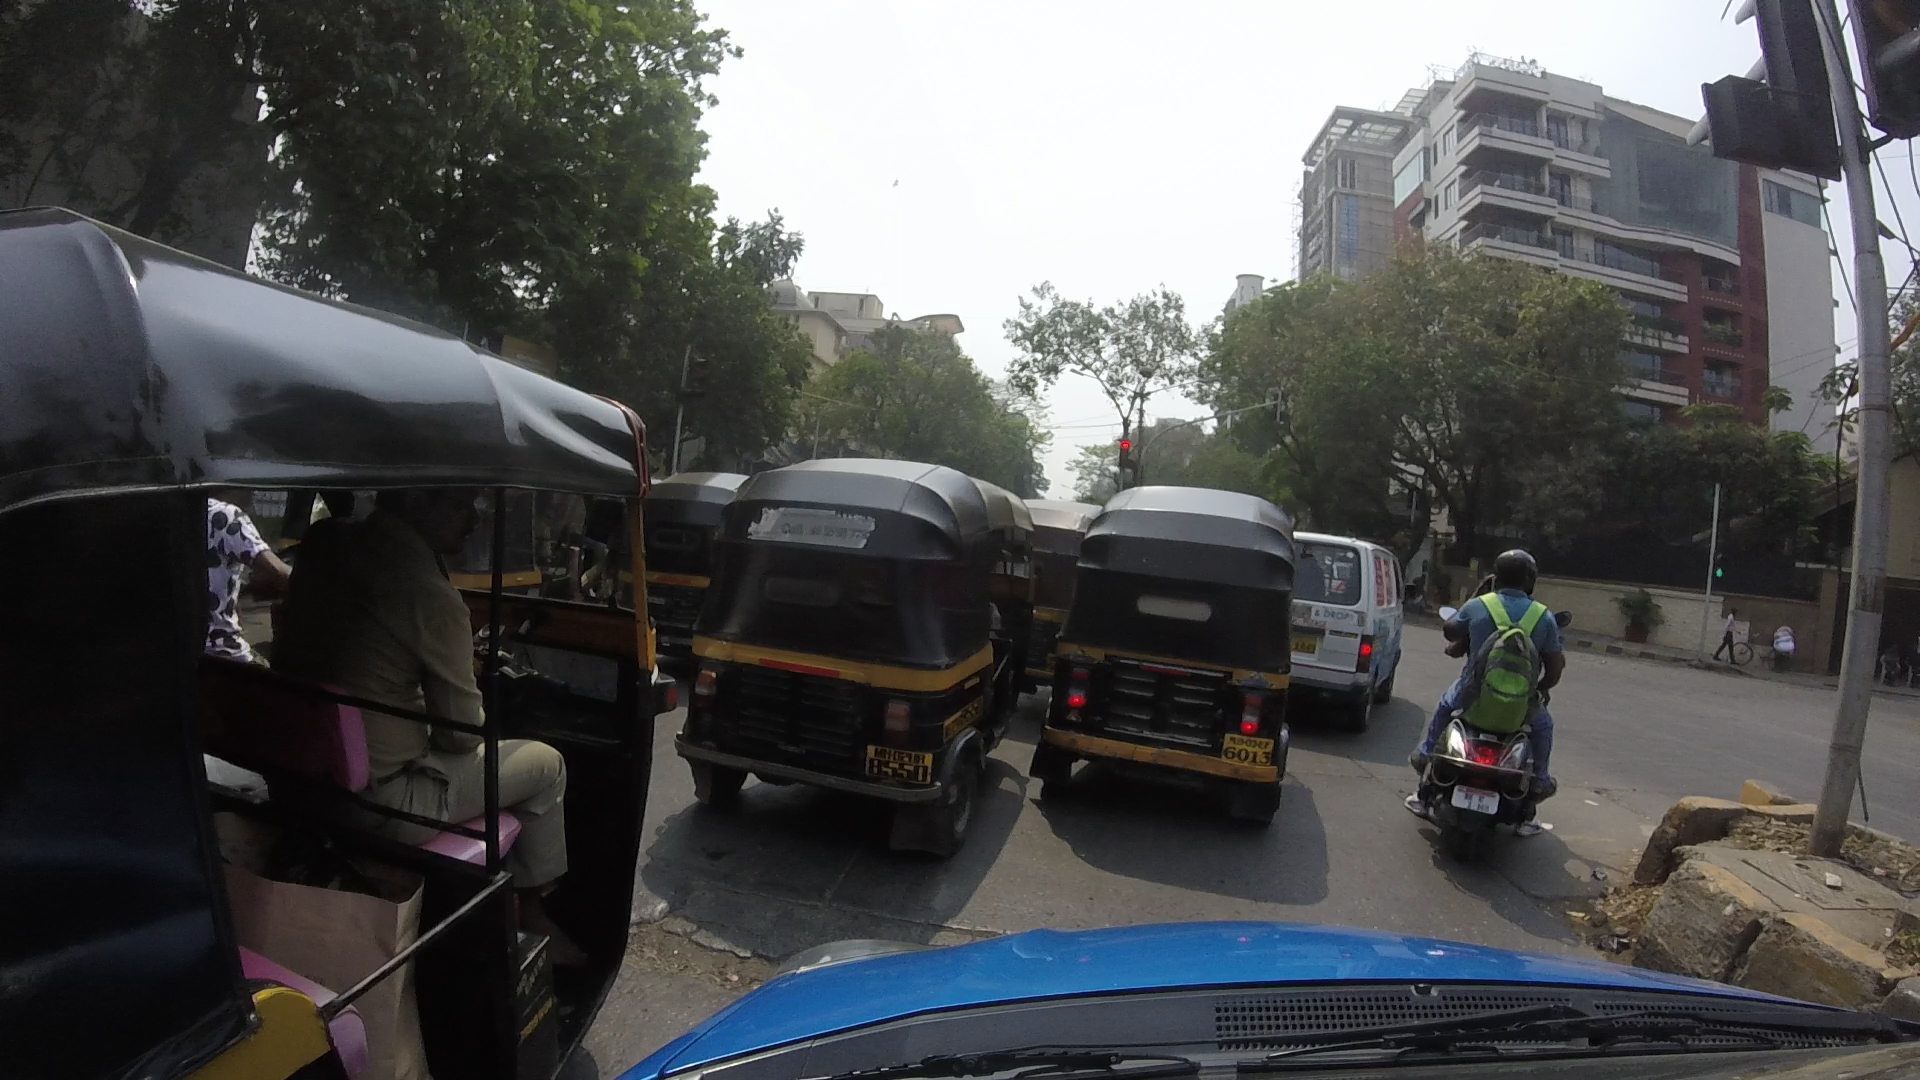bike/scooter: (1422, 542, 1555, 857)
car: (1284, 530, 1408, 713)
rickshaw: (26, 222, 630, 1080), (699, 458, 993, 827), (1062, 480, 1284, 793), (640, 469, 752, 692)
